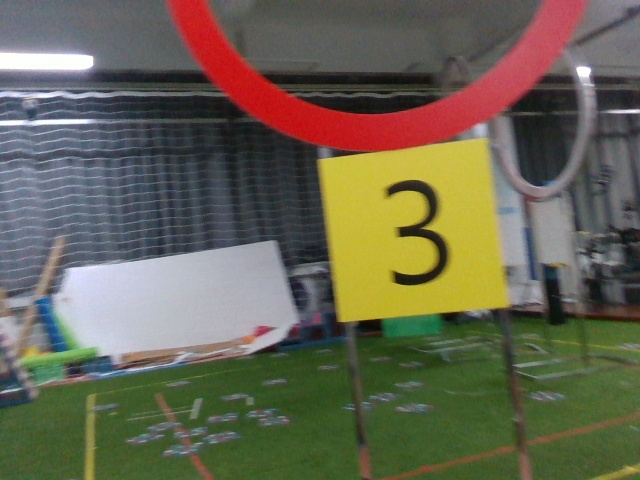target: (334, 161, 485, 308)
